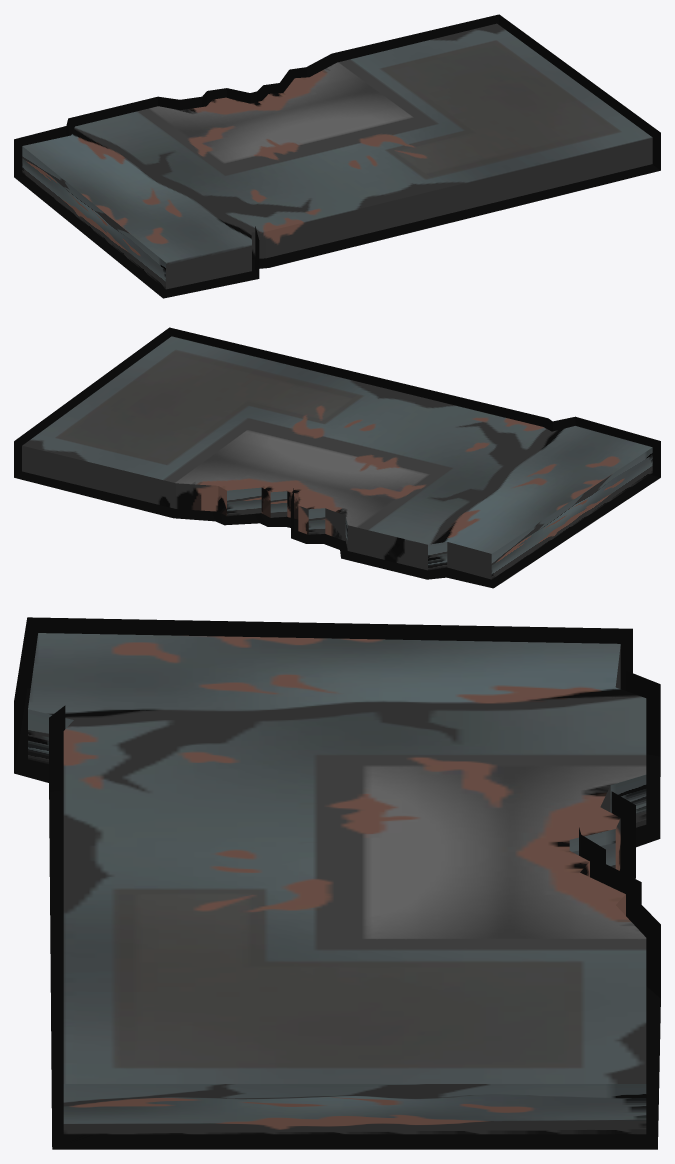
File: Building_AncientTableMachining_Things_Building_Ancient_Workbenches_AncientTableMachining.glb
The picture shows the model from 3 angles, top to bottom: view 1: azimuth 30°, elevation 25°; view 2: azimuth 150°, elevation 25°; view 3: azimuth 270°, elevation 25°; orthographic projection. The views are drawn at different scales.
Parts seen in each view (by area): view 1: Body, Outline; view 2: Body, Outline; view 3: Body, Outline.
Part boxes in pixels (box(x1,y1,x2,y2)): Body: box(22, 23, 652, 289); Outline: box(14, 14, 660, 298); Body: box(22, 336, 652, 579); Outline: box(14, 327, 660, 588); Body: box(28, 633, 646, 1134); Outline: box(14, 617, 660, 1149).
Size of the model in its own units: 2.98 by 0.2481 by 1.77.
2 materials, 1 textured.
